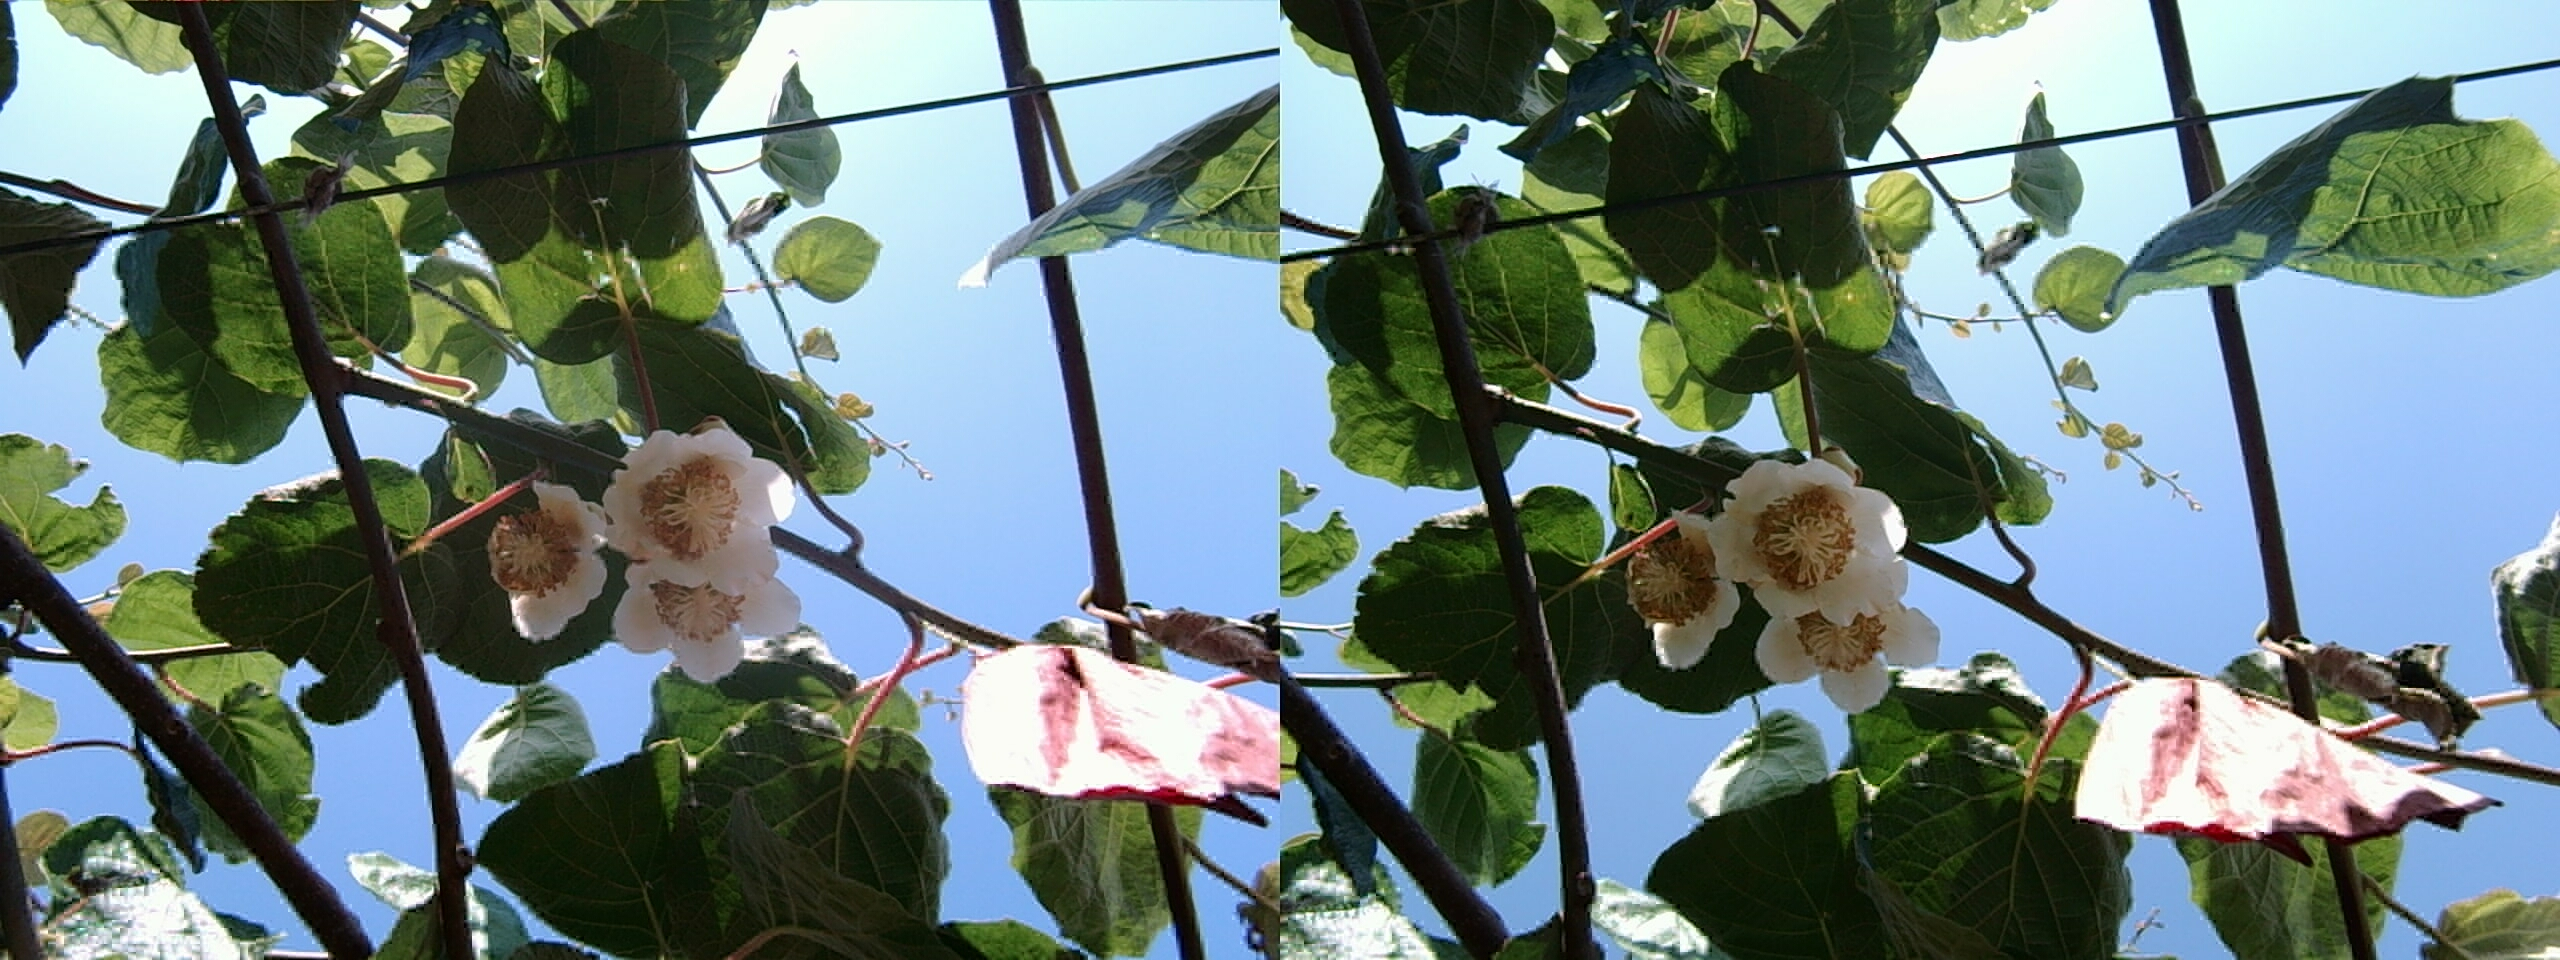flower: (593, 410, 803, 661), (1700, 446, 1923, 671), (1602, 496, 1753, 660), (473, 477, 624, 640)
